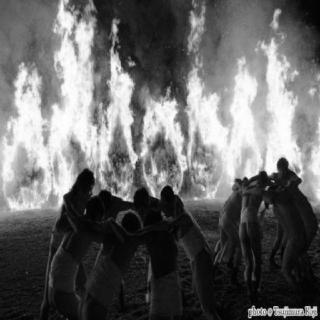Fire: (1, 1, 319, 211)
